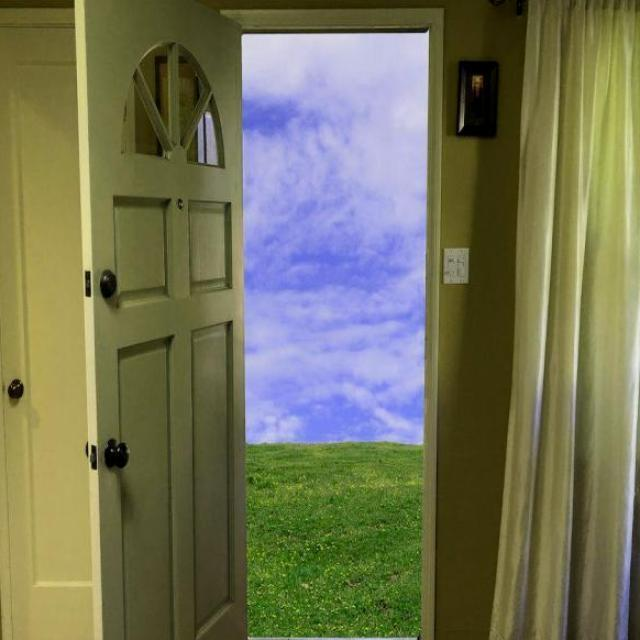door: (68, 1, 256, 640)
